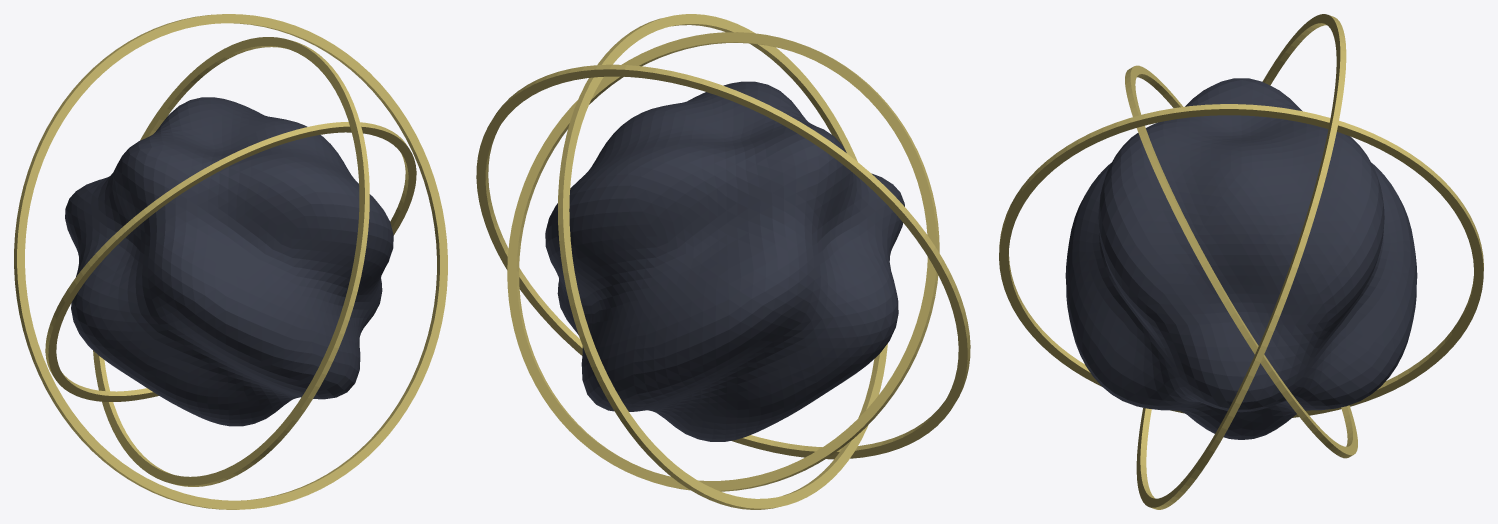
Rendered from gpu-artifact.glb.
3 views of the same model, side by side, from view 1: azimuth 30°, elevation 25°; view 2: azimuth 150°, elevation 25°; view 3: azimuth 270°, elevation 25° (orthographic). The views are drawn at different scales.
Visible parts, largest first — view 1: deepsearch-research-agent_obsidian_core, deepsearch-research-agent_orbital_ring_2, deepsearch-research-agent_orbital_ring_1, deepsearch-research-agent_orbital_ring_0; view 2: deepsearch-research-agent_obsidian_core, deepsearch-research-agent_orbital_ring_0, deepsearch-research-agent_orbital_ring_2, deepsearch-research-agent_orbital_ring_1; view 3: deepsearch-research-agent_obsidian_core, deepsearch-research-agent_orbital_ring_1, deepsearch-research-agent_orbital_ring_2, deepsearch-research-agent_orbital_ring_0.
Part boxes in pixels (bbox=[...]): deepsearch-research-agent_obsidian_core: bbox=[65, 97, 393, 426]; deepsearch-research-agent_orbital_ring_2: bbox=[14, 14, 447, 509]; deepsearch-research-agent_orbital_ring_1: bbox=[93, 37, 369, 486]; deepsearch-research-agent_orbital_ring_0: bbox=[45, 122, 416, 401]; deepsearch-research-agent_obsidian_core: bbox=[545, 81, 904, 441]; deepsearch-research-agent_orbital_ring_0: bbox=[507, 32, 939, 491]; deepsearch-research-agent_orbital_ring_2: bbox=[476, 64, 970, 459]; deepsearch-research-agent_orbital_ring_1: bbox=[558, 14, 887, 509]; deepsearch-research-agent_obsidian_core: bbox=[1065, 78, 1417, 439]; deepsearch-research-agent_orbital_ring_1: bbox=[999, 104, 1483, 417]; deepsearch-research-agent_orbital_ring_2: bbox=[1136, 14, 1346, 509]; deepsearch-research-agent_orbital_ring_0: bbox=[1125, 65, 1357, 458].
Size of the model in its own units: 3.24 by 3 by 3.
